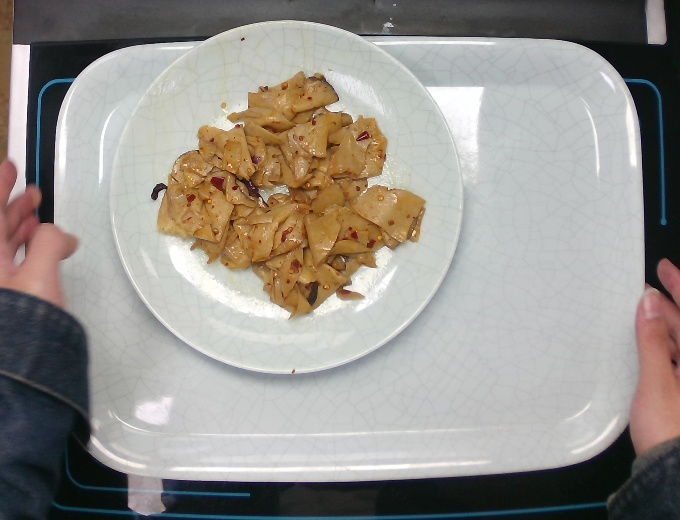JYsf-Da_Yuan_Pan: (101, 9, 468, 381)
